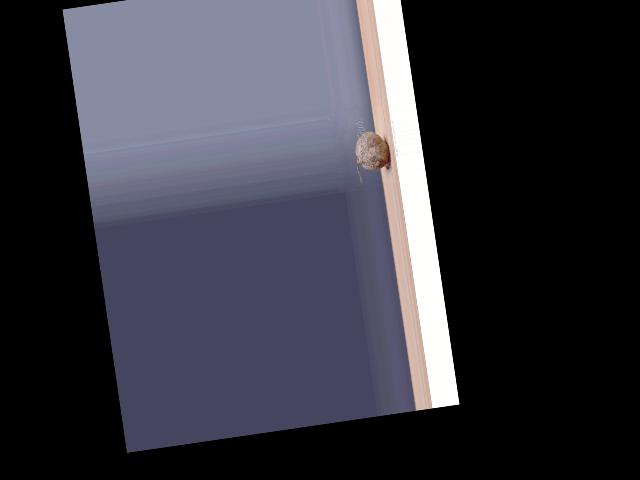beet: (352, 129, 392, 184)
